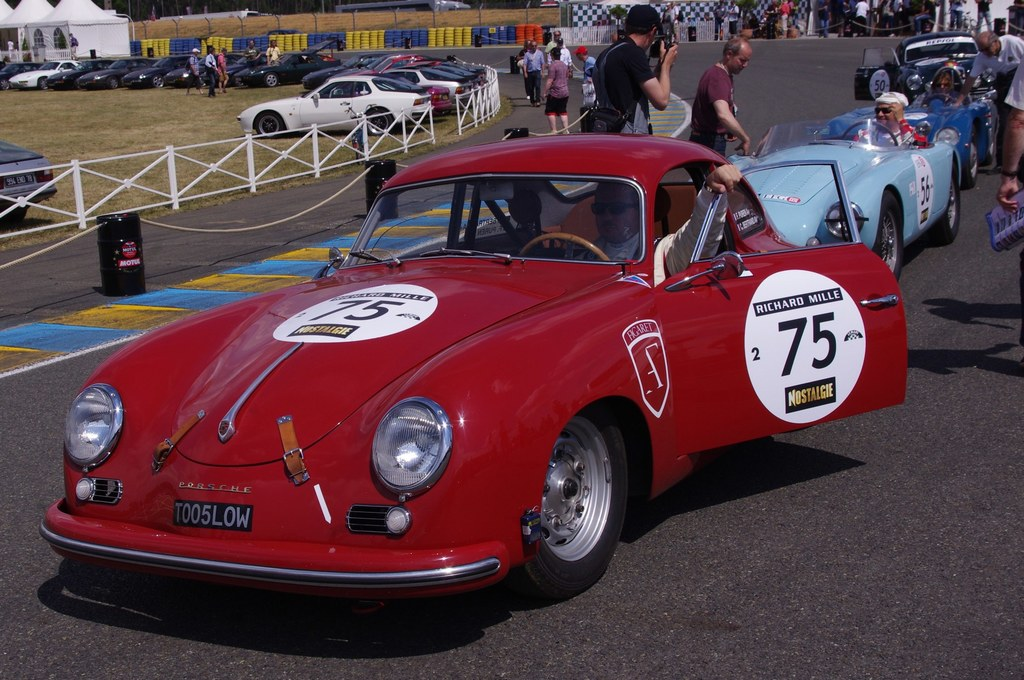Car: (0, 24, 1003, 630)
